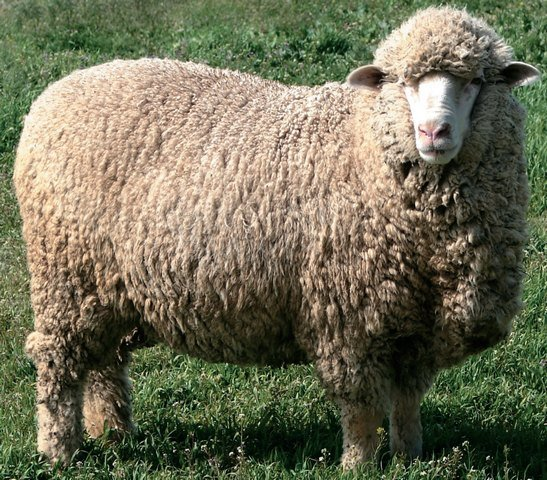sheep: (20, 45, 520, 445)
